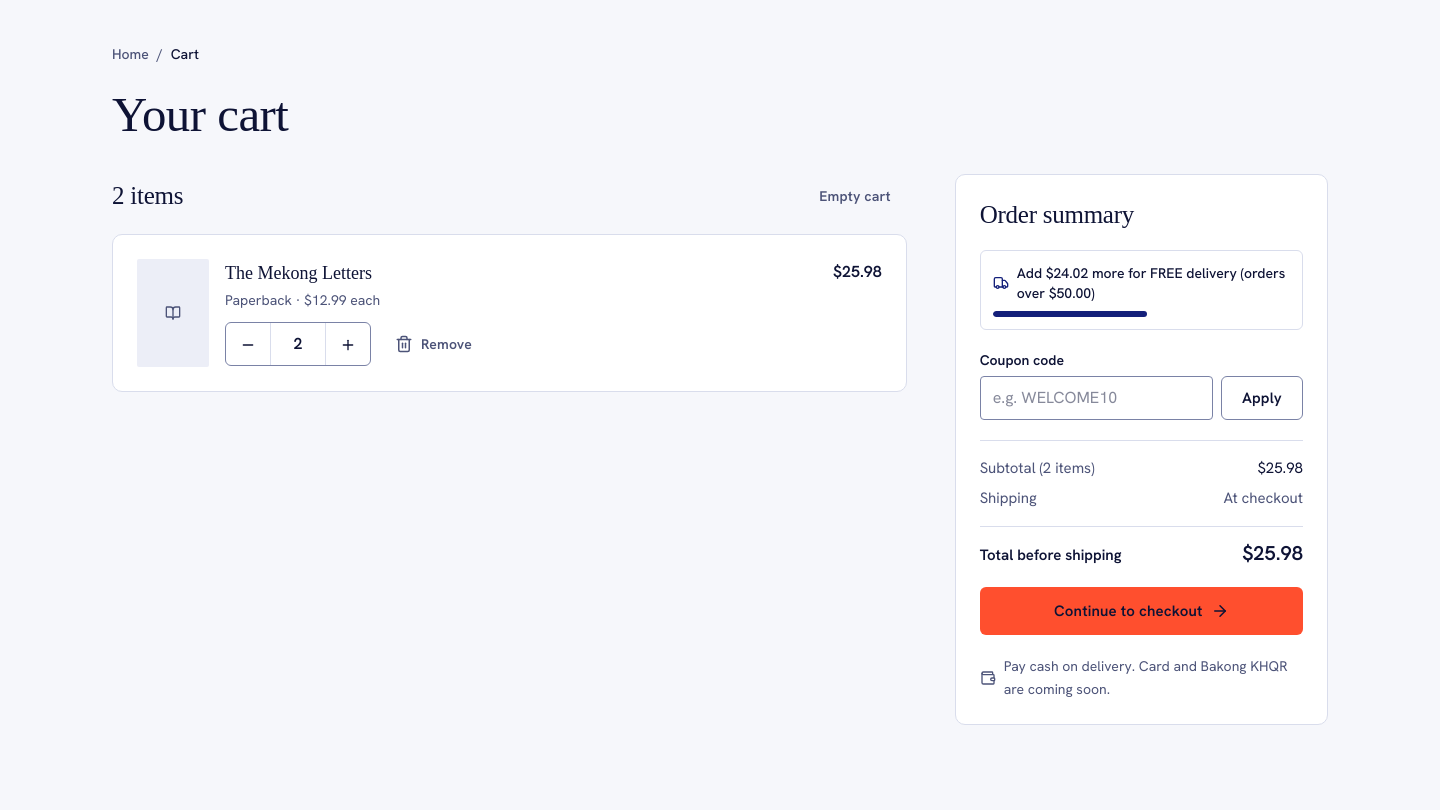
Test case: CartPage › shows why a coupon doesn't apply
The width and height of the screenshot is (1440, 810).
Type "SAVE5" into the field labelled "Coupon code" at (1096,398), box [980,376,1213,420]
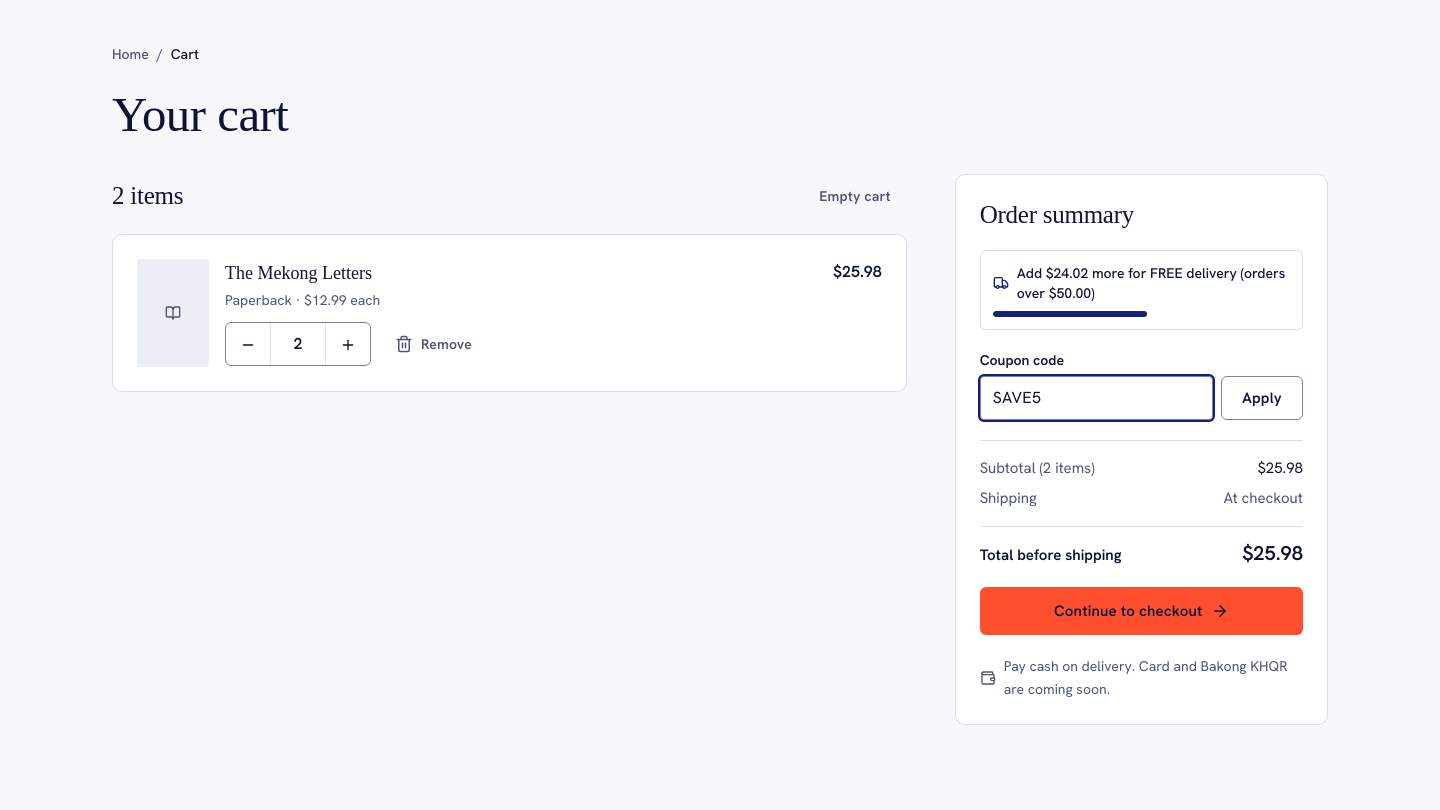
Click the button "Apply" at (1262,398), box [1221,376,1303,420]
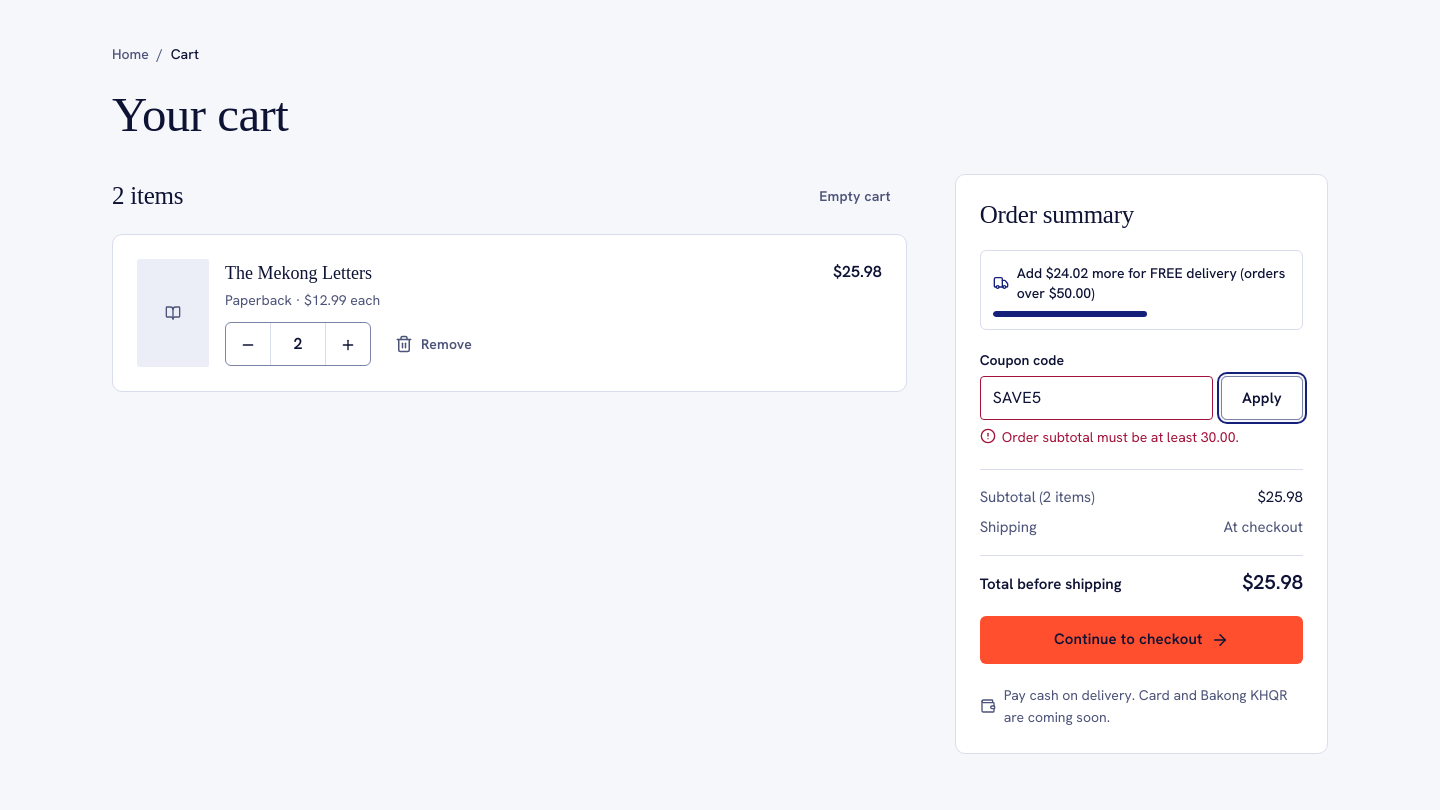
Expected: the text "Order subtotal must be at least 30.00." is shown, [980,428,1239,446]
